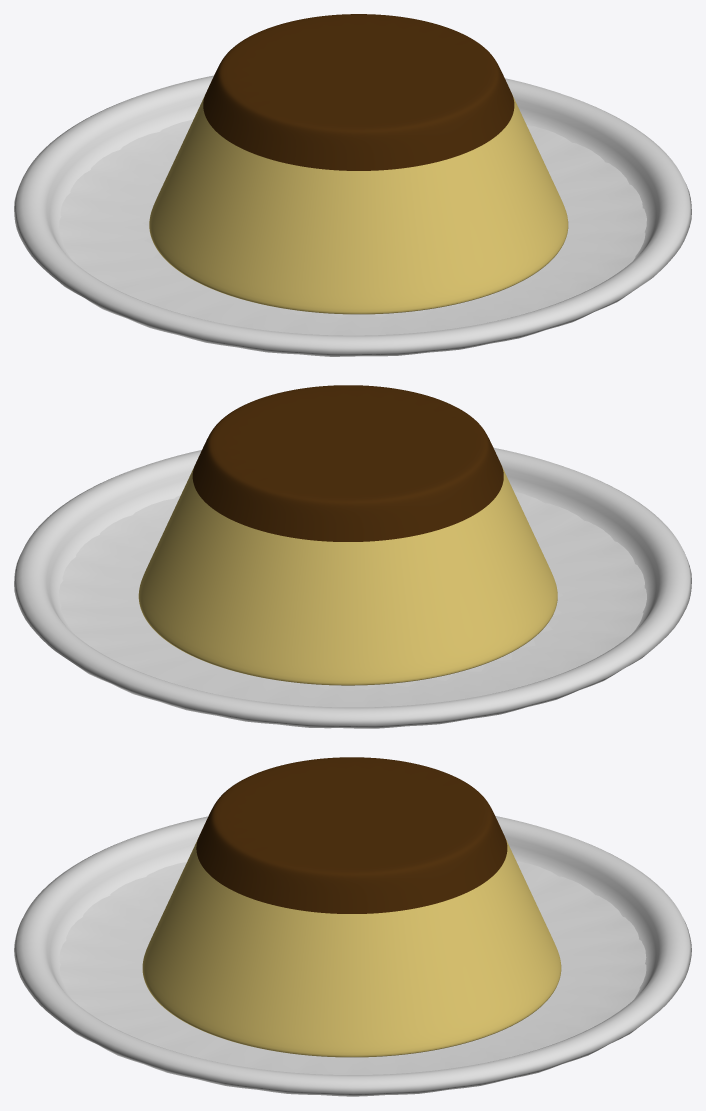
File: 654230011_pudding_model.fbx
The picture shows the model from 3 angles, top to bottom: view 1: azimuth 30°, elevation 25°; view 2: azimuth 150°, elevation 25°; view 3: azimuth 270°, elevation 25°; orthographic projection.
Visible parts, largest first — view 1: Circle, Circle.001; view 2: Circle, Circle.001; view 3: Circle, Circle.001.
Boxes of the visible parts, box(x1,y1,x2,y2) form: Circle: box(149, 14, 568, 314); Circle.001: box(14, 75, 691, 356); Circle: box(138, 385, 557, 685); Circle.001: box(14, 448, 691, 728); Circle: box(142, 757, 561, 1057); Circle.001: box(14, 816, 691, 1096).
Size of the model in its own units: 319 by 83.62 by 319.
